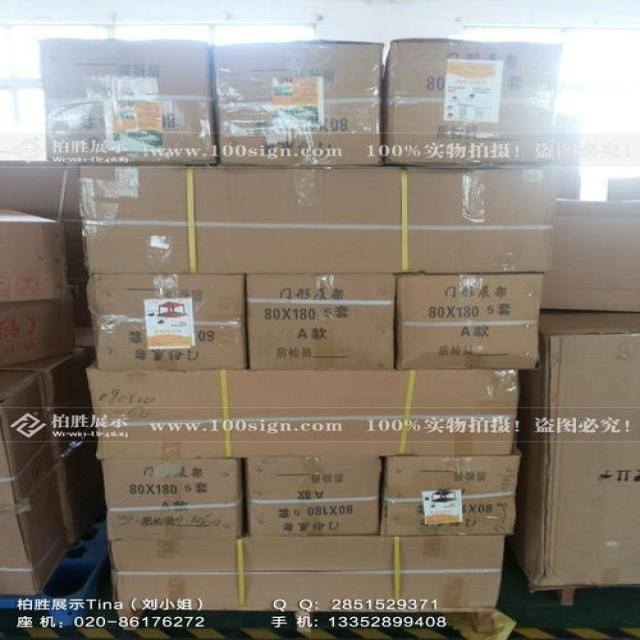Carton: (81, 39, 558, 272), (86, 276, 543, 455), (40, 39, 380, 162), (111, 533, 497, 607), (91, 276, 244, 367), (242, 276, 389, 367), (102, 459, 238, 539), (243, 458, 380, 533), (381, 456, 512, 532)
